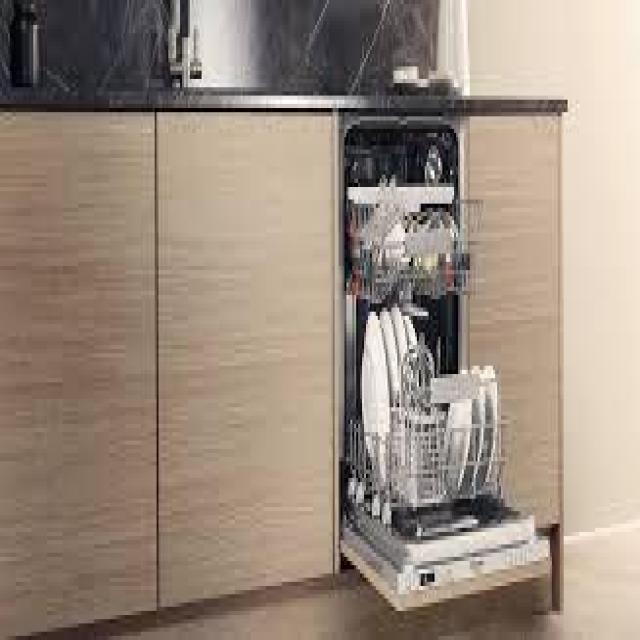dishwasher: (337, 112, 554, 615)
